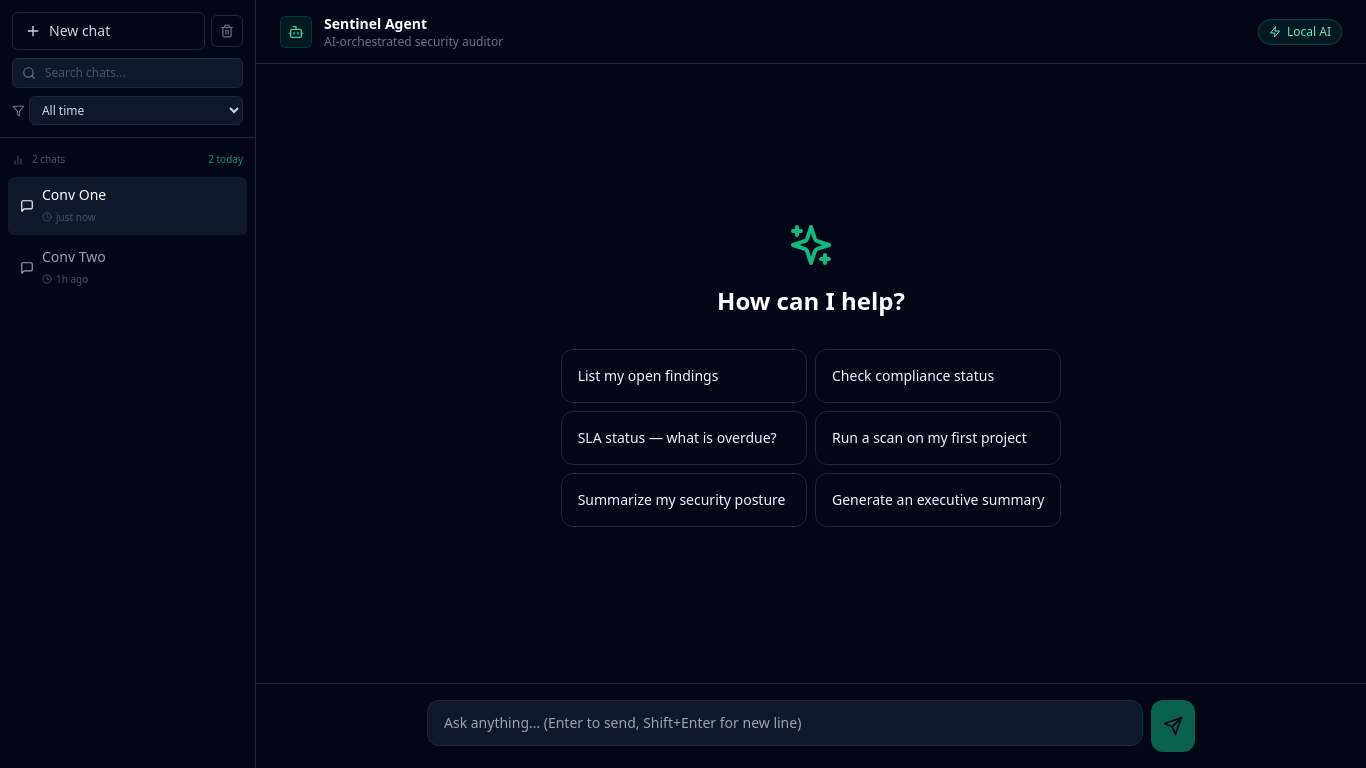
Chat — conversation management › newConversation — "New chat" button adds a conversation
This screenshot has width=1366, height=768.
Expected: the text "Conv One" is shown, [42,185,106,204]
Click the button "New chat" at (108, 31), box [12,12,205,50]
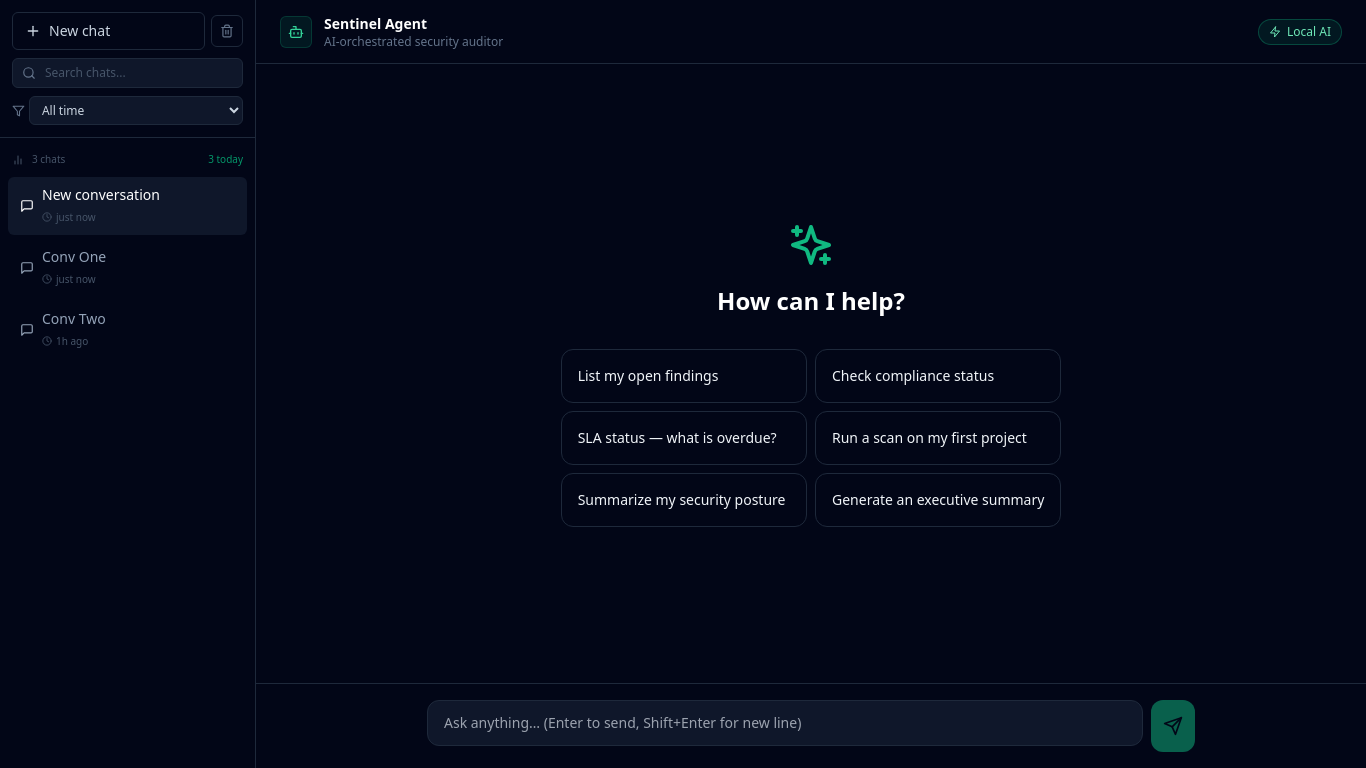
Expected: the text "New conversation" is shown, [42,185,160,204]
